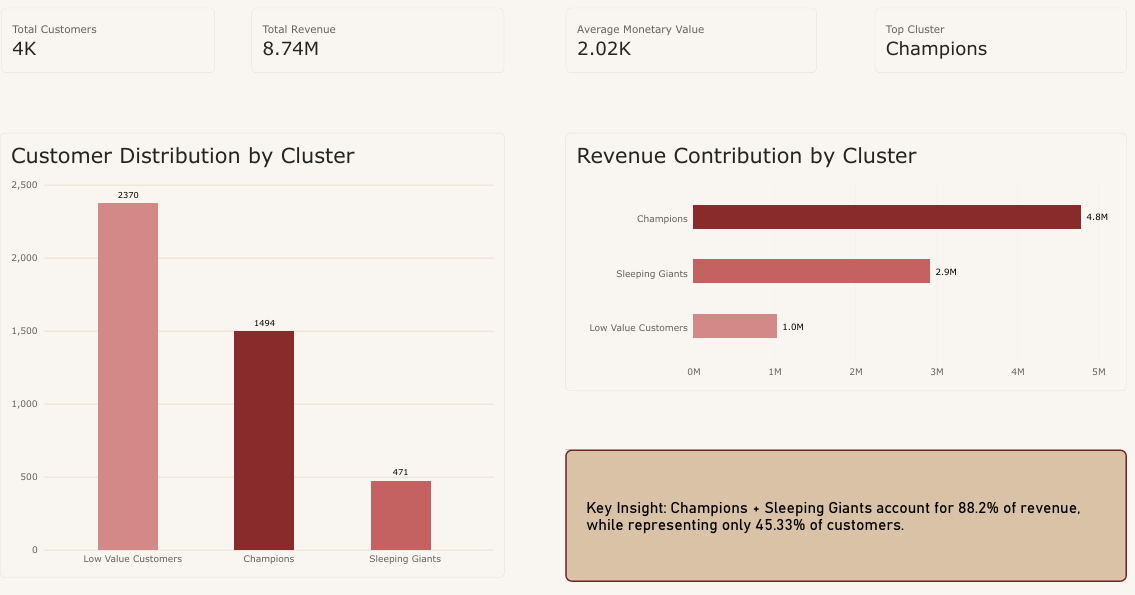

The page's visual inventory and layout, read from the dashboard file:
{"tool":"powerbi","page":{"name":"Executive Overview","canvas":[1920,1080],"ordinal":0},"visuals":[{"type":"cardVisual","fields":{"Data":["_calculations.Total Customers"]},"box":[92.5,91.2,328.8,100],"z":0},{"type":"cardVisual","fields":{"Data":["_calculations.Total Revenue"]},"box":[477.1,91.4,388.6,100],"z":1000},{"type":"cardVisual","fields":{"Data":["_calculations.Average Monetary Value"]},"box":[960,91.4,385.7,100],"z":2000},{"type":"cardVisual","fields":{"Data":["_calculations.Top Cluster"]},"box":[1434.3,91.4,387.1,100],"z":3000},{"type":"columnChart","title":"Customer Distribution by Cluster","fields":{"Category":["clusters.cluster_name"],"Y":["Count(customers_with_clusters.customer_id)"]},"box":[91.4,282.9,774.3,684.3],"z":4000},{"type":"clusteredBarChart","title":"Revenue Contribution by Cluster","fields":{"Category":["clusters.cluster_name"],"Y":["Sum(customers_with_clusters.monetary)"]},"box":[958.6,282.9,862.9,397.1],"z":5000},{"type":"shape","box":[958.8,770,862.5,202.5],"z":7000}]}

Visuals, with their boxes on the page's 1920x1080 design canvas (x1, y1, x2, y2). These are canvas units, not pixel positions in the 1135x595 screenshot, which may show the page scaled, cropped or inside an application window:
cardVisual - _calculations.Total Customers: crop(92, 91, 421, 191)
cardVisual - _calculations.Total Revenue: crop(477, 91, 866, 191)
cardVisual - _calculations.Average Monetary Value: crop(960, 91, 1346, 191)
cardVisual - _calculations.Top Cluster: crop(1434, 91, 1821, 191)
"Customer Distribution by Cluster" columnChart: crop(91, 283, 866, 967)
"Revenue Contribution by Cluster" clusteredBarChart: crop(959, 283, 1822, 680)
shape: crop(959, 770, 1821, 972)
